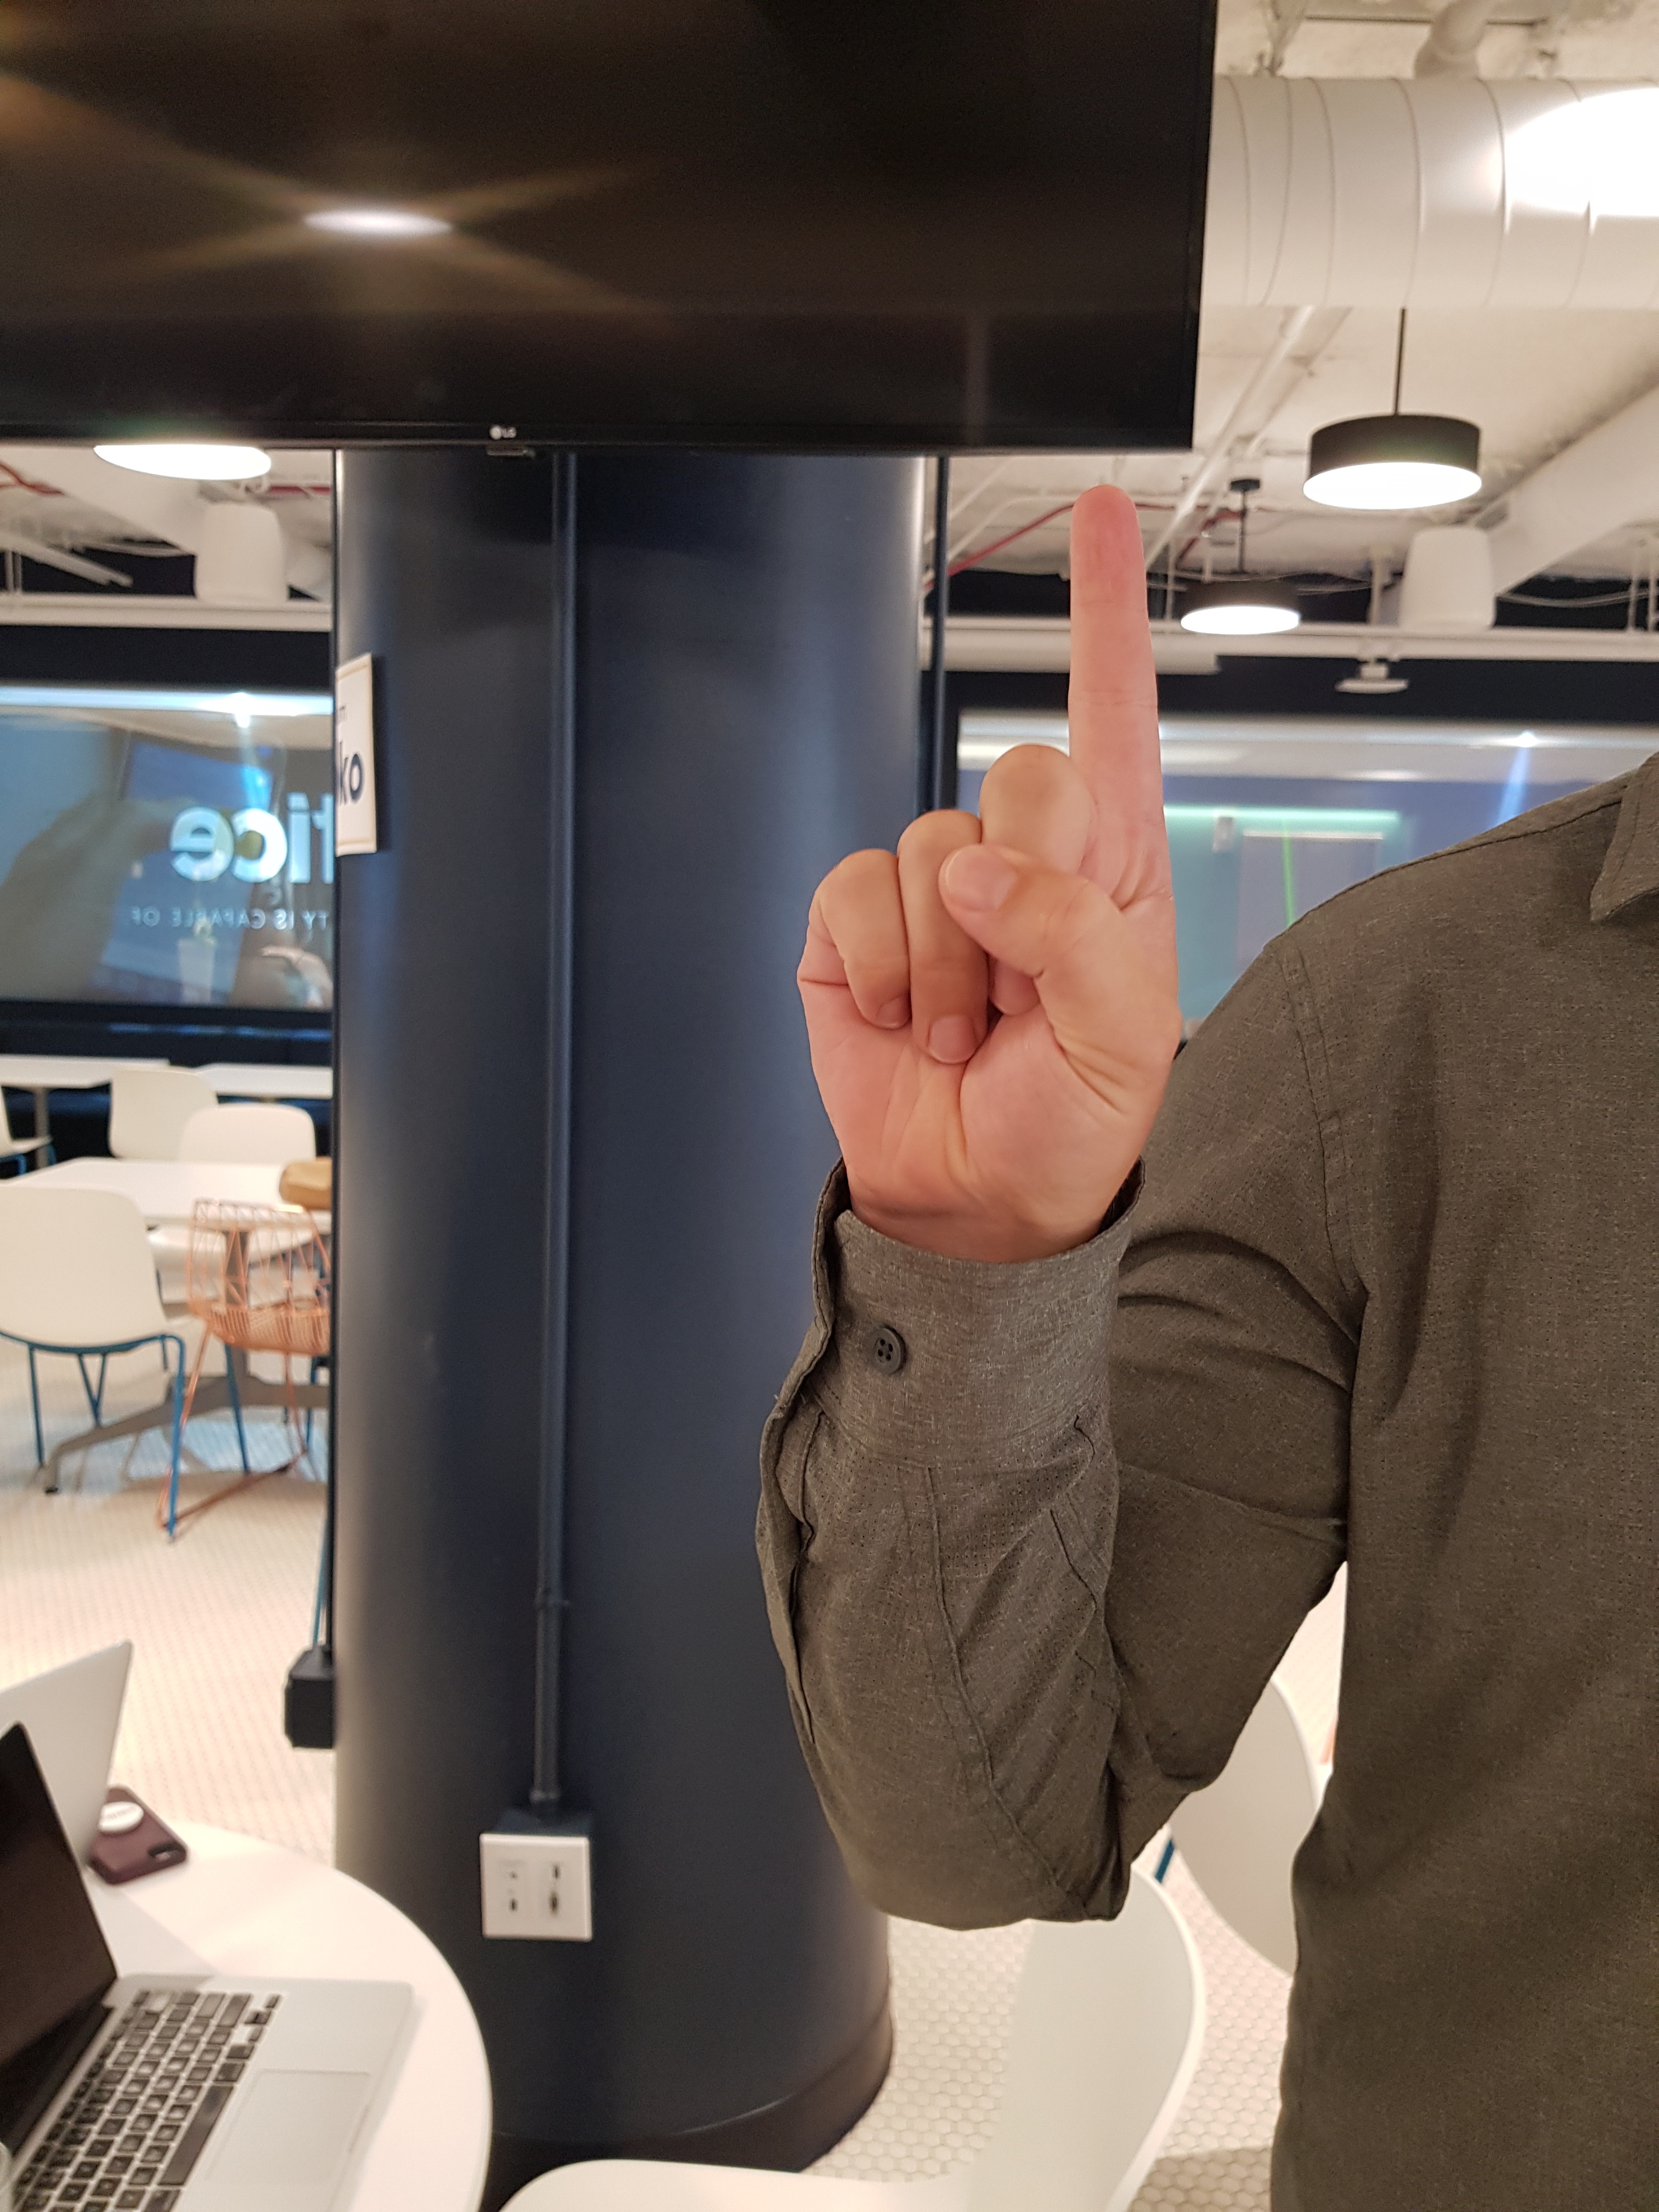d: (760, 469, 1209, 1254)
